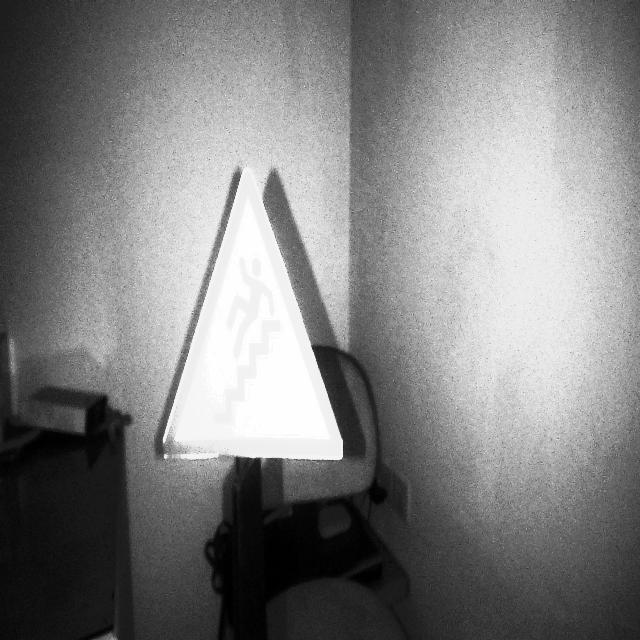Sign: (161, 165, 346, 463)
